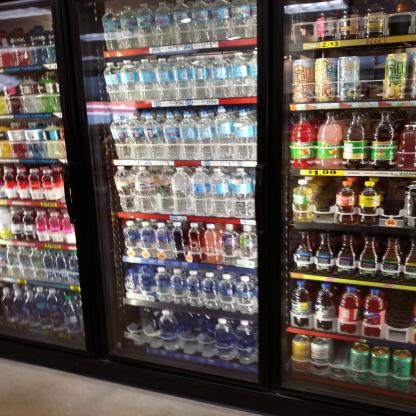Void: (386, 294, 412, 337), (362, 52, 384, 100), (384, 181, 403, 221), (124, 308, 141, 351), (318, 179, 335, 219)
